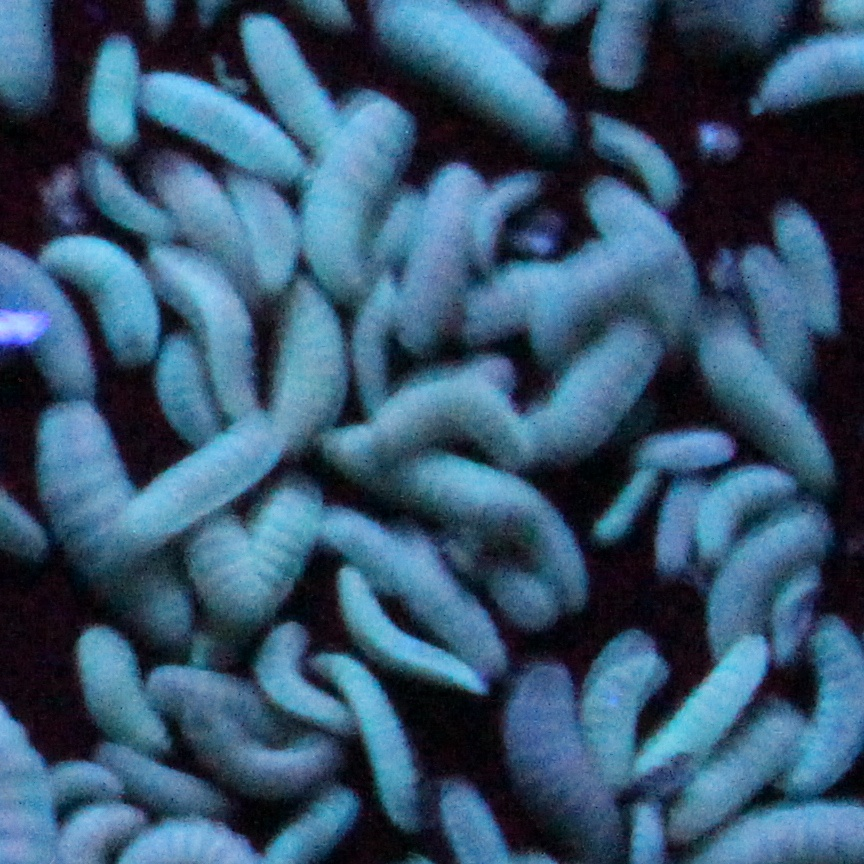larve: (488, 655, 624, 857), (690, 308, 841, 483), (632, 623, 775, 807), (304, 640, 439, 834), (120, 404, 291, 553), (390, 152, 495, 348), (134, 70, 311, 184), (367, 360, 533, 474), (524, 324, 661, 453), (45, 228, 169, 366), (154, 249, 259, 405), (336, 573, 467, 688), (68, 621, 176, 759), (273, 272, 348, 458), (760, 189, 852, 337), (235, 18, 335, 148), (147, 149, 243, 269), (584, 112, 697, 213), (250, 613, 337, 727), (76, 19, 144, 157), (74, 153, 171, 240), (140, 333, 219, 437), (247, 484, 325, 588), (634, 424, 732, 476)
